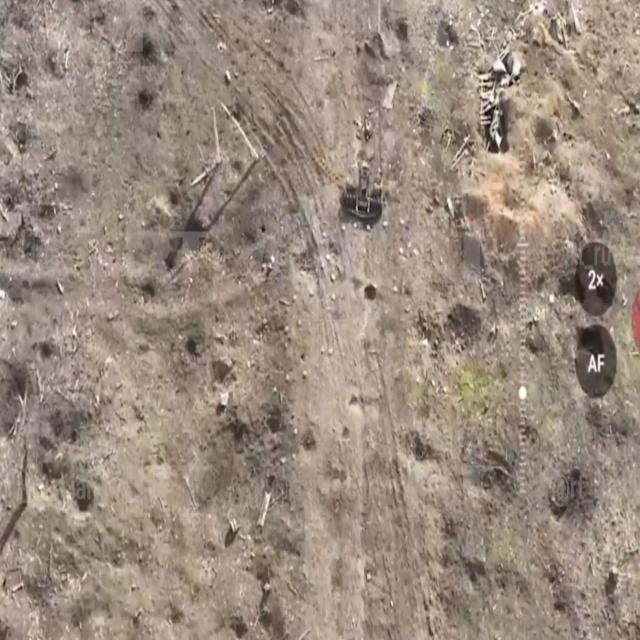fortification: (474, 73, 510, 163), (489, 42, 524, 106)
infantry: (353, 110, 379, 144)
vehicle: (340, 163, 389, 233)
